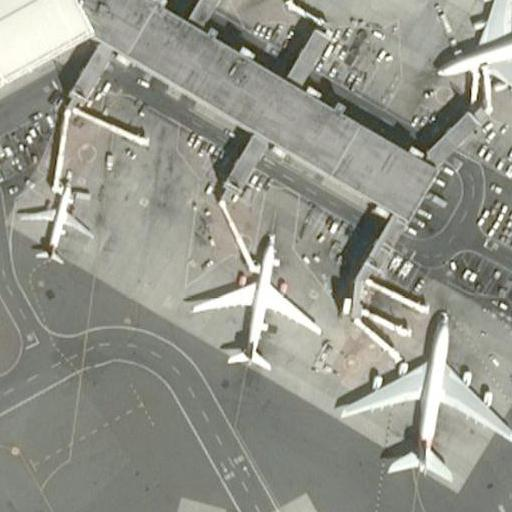Aircraft: (332, 309, 511, 487), (189, 226, 325, 376), (428, 0, 512, 127), (12, 183, 94, 265)
